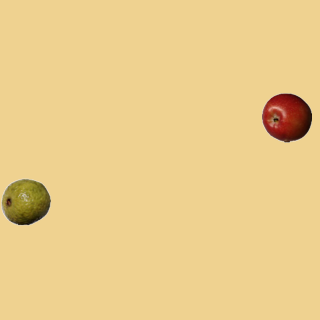Apple Braeburn: (261, 92, 311, 142)
Guava: (0, 176, 50, 226)
